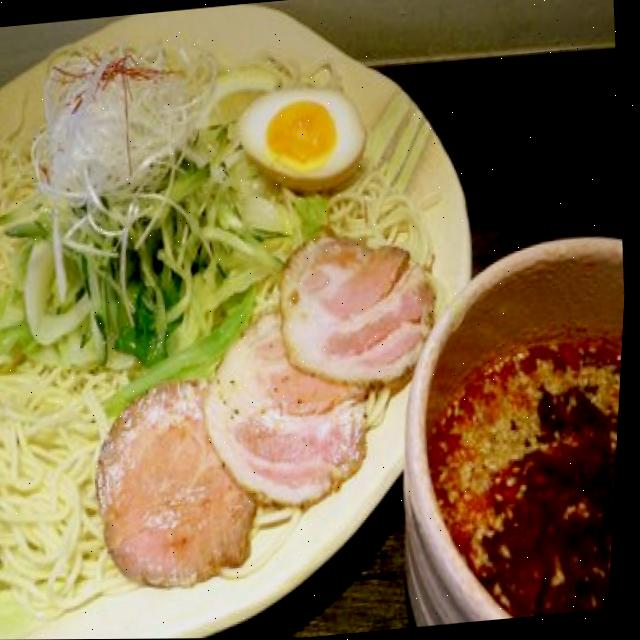面条主食: (0, 14, 639, 640)
